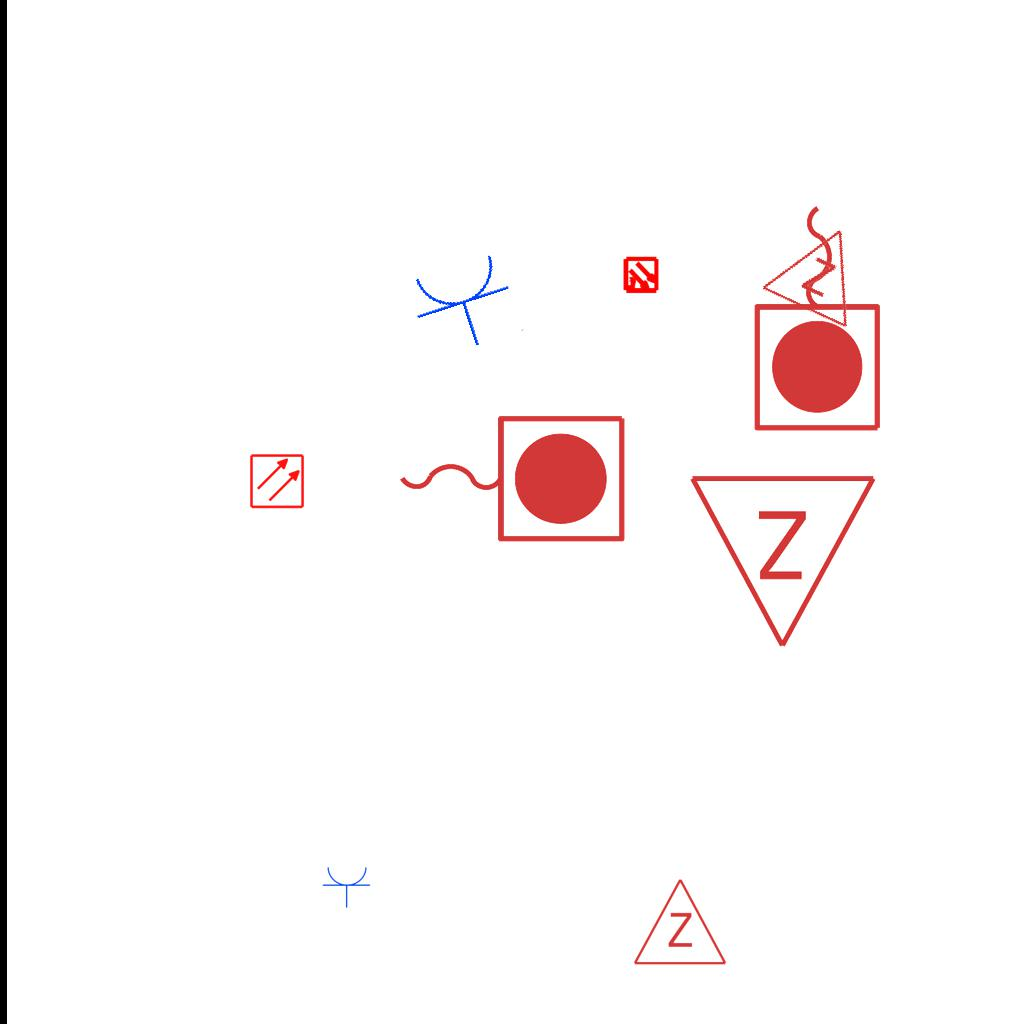OT_Multisensormelder_(Kombination_RMO_WMD): (613, 248, 669, 304)
RMO_Rauchmelder_optischer: (249, 453, 305, 509)
Schukosteckdose_einfach: (404, 247, 526, 362), (322, 865, 372, 908)
Zimmersignalleuchte: (687, 461, 883, 661), (755, 202, 887, 336), (630, 872, 728, 972)
Zugtaster: (747, 195, 891, 439), (389, 405, 633, 549)
